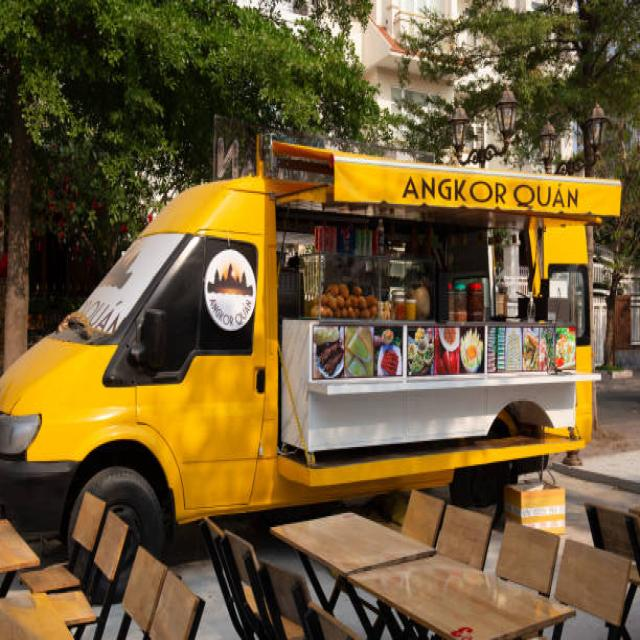Emperan: (0, 120, 640, 588)
